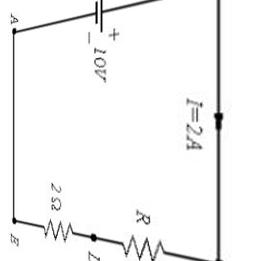resistor: (107, 229, 169, 259), (34, 213, 77, 247)
